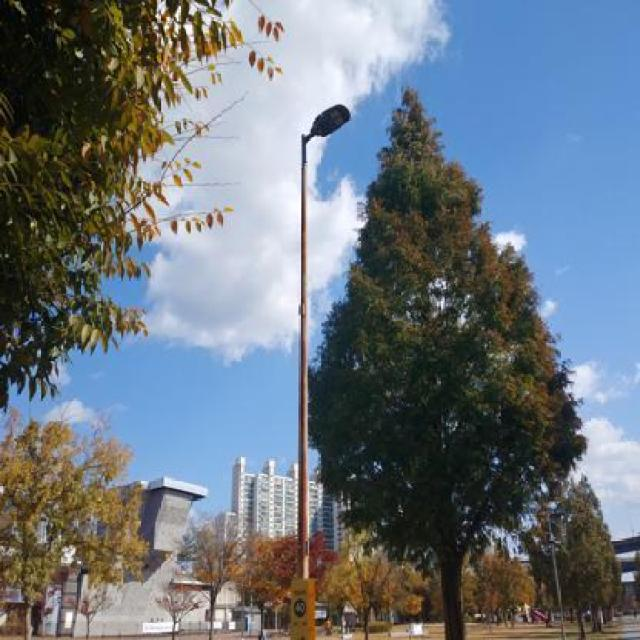pole: (291, 153, 327, 640)
